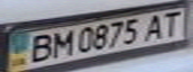0: (75, 25, 96, 54)
5: (121, 16, 148, 46)
7: (106, 19, 127, 48)
8: (90, 21, 112, 52)
A: (139, 11, 169, 40)
B: (21, 31, 57, 64)
M: (48, 28, 75, 58)
T: (157, 8, 190, 37)
